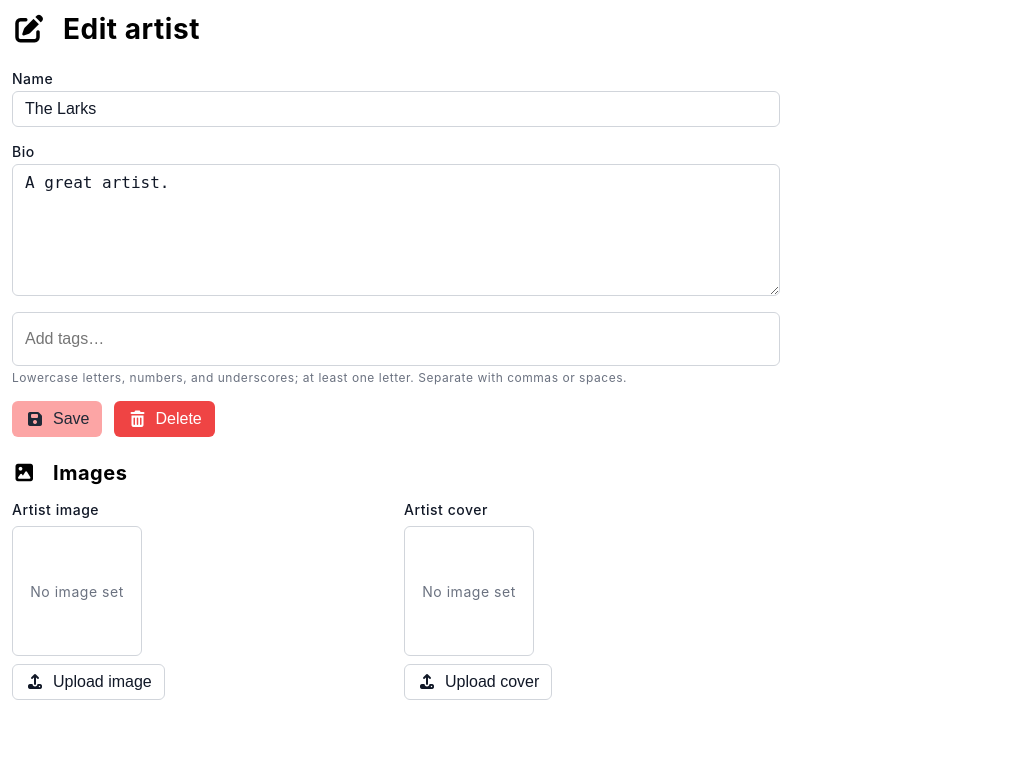
Test case: ArtistEditView › surfaces save errors inline
Step 1. Replace the text in the field labelled "Name" with "The Larks Updated" → (396, 109), box [12,91,780,127]
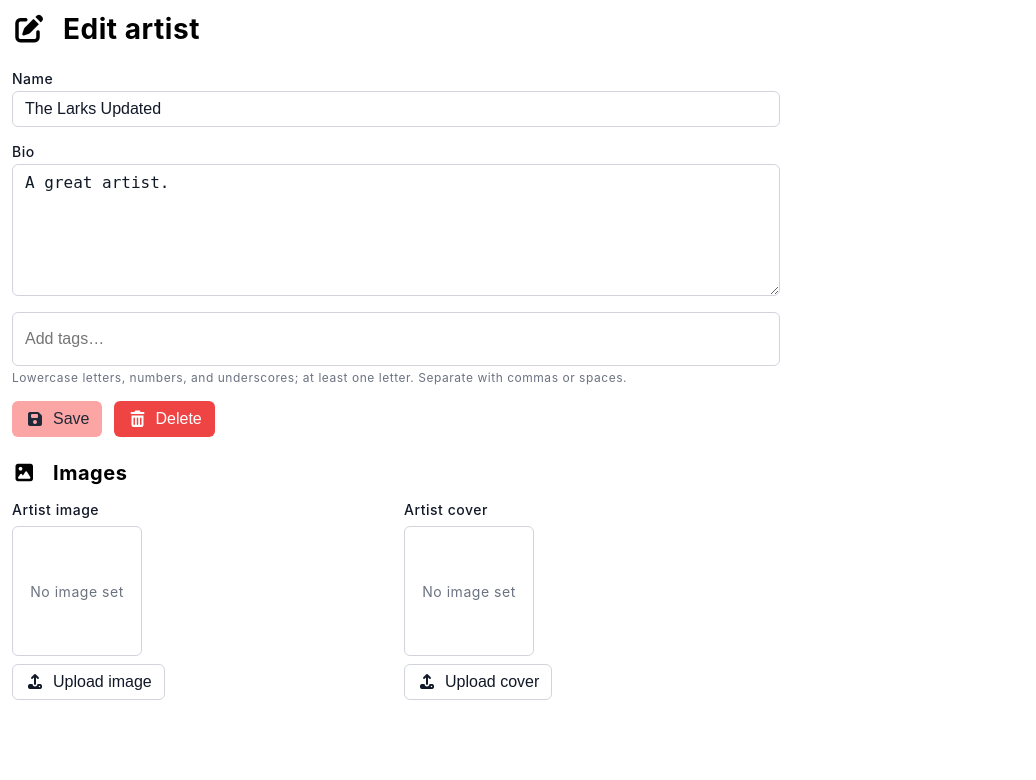
Step 2. Click the button "Save" → (57, 419), box [12,401,102,437]
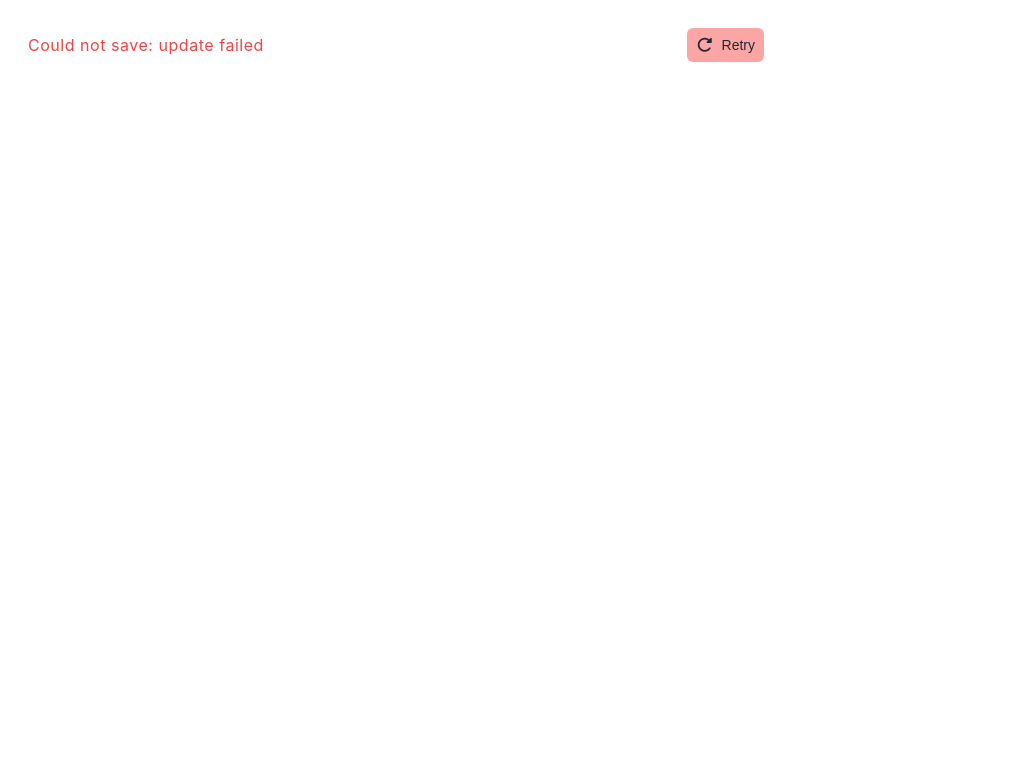
Now the text "update failed" is shown, box [28,35,264,55]
